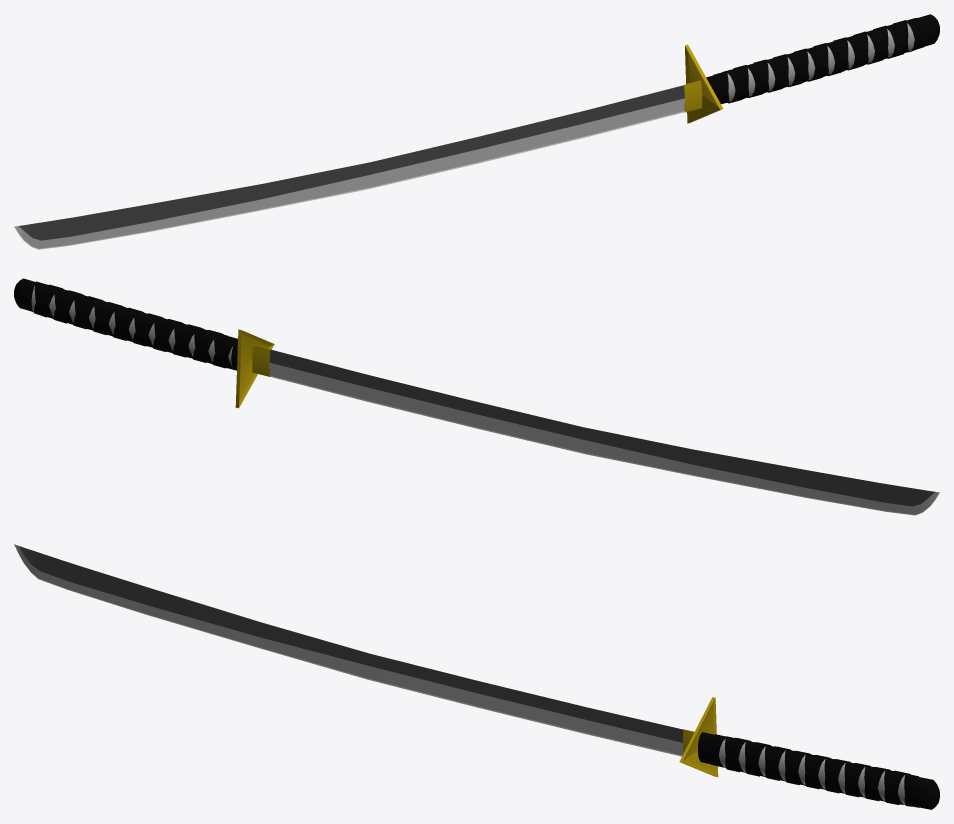
The model's file is Sword.fbx.
3 renders of one model, top to bottom at view 1: azimuth 30°, elevation 25°; view 2: azimuth 150°, elevation 25°; view 3: azimuth 330°, elevation 25°, orthographic.
Parts seen in each view (by area): view 1: Plane.012; view 2: Plane.012; view 3: Plane.012.
Part boxes in pixels (x1,y1,x2,y2): Plane.012: (14,14,939,249); Plane.012: (14,278,939,515); Plane.012: (14,544,939,809).
Size of the model in its own units: 1 by 0.082 by 0.0648.
